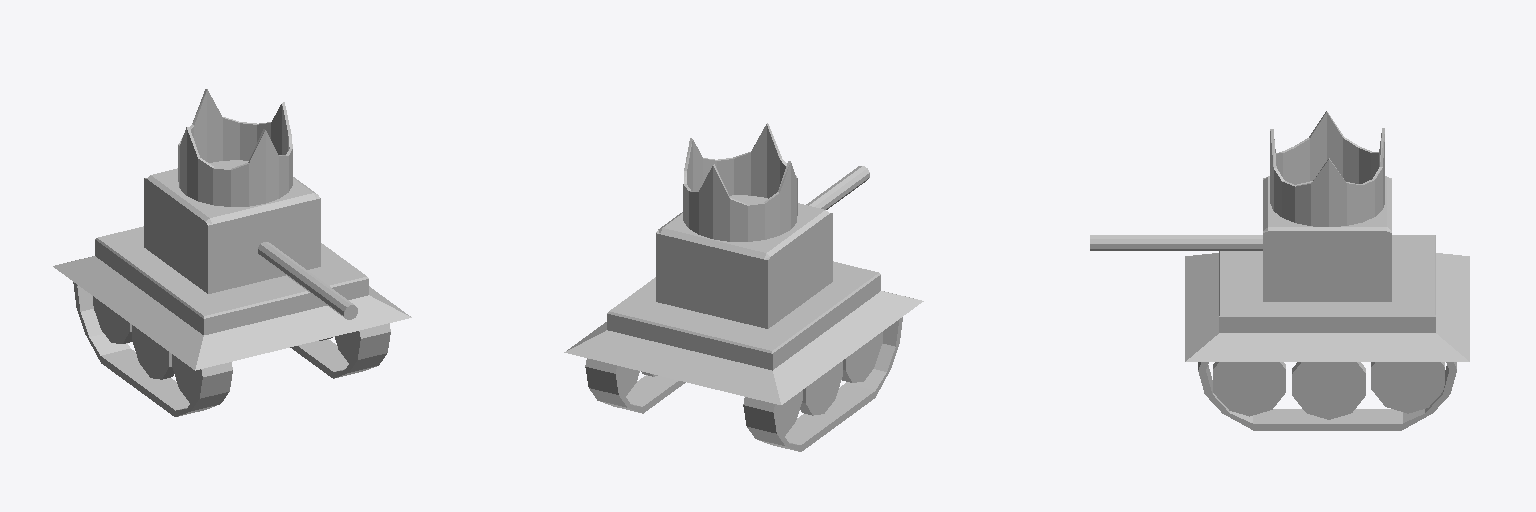
The model's file is Curitanque.obj.
3 renders of one model, left to right at view 1: azimuth 30°, elevation 25°; view 2: azimuth 150°, elevation 25°; view 3: azimuth 270°, elevation 25°, orthographic.
Visible parts, largest first — view 1: pivot1_polySurface7; view 2: pivot1_polySurface7; view 3: pivot1_polySurface7.
Boxes of the visible parts, <box> form: pivot1_polySurface7: <box>53,89,411,416</box>; pivot1_polySurface7: <box>564,123,923,451</box>; pivot1_polySurface7: <box>1090,111,1469,430</box>.
Bounding box in the file's own units: 5.98 × 6.78 × 9.09.